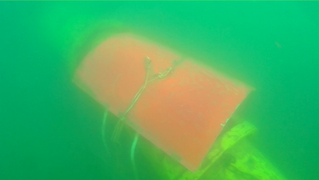4: (55, 10, 77, 32)
leak: (71, 32, 257, 172)
pipe: (109, 112, 289, 180), (31, 1, 127, 86)
